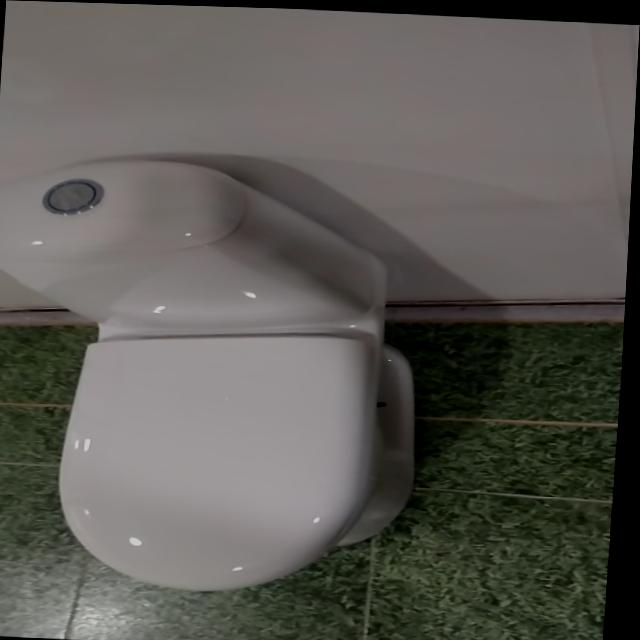toilet: (0, 150, 439, 598)
